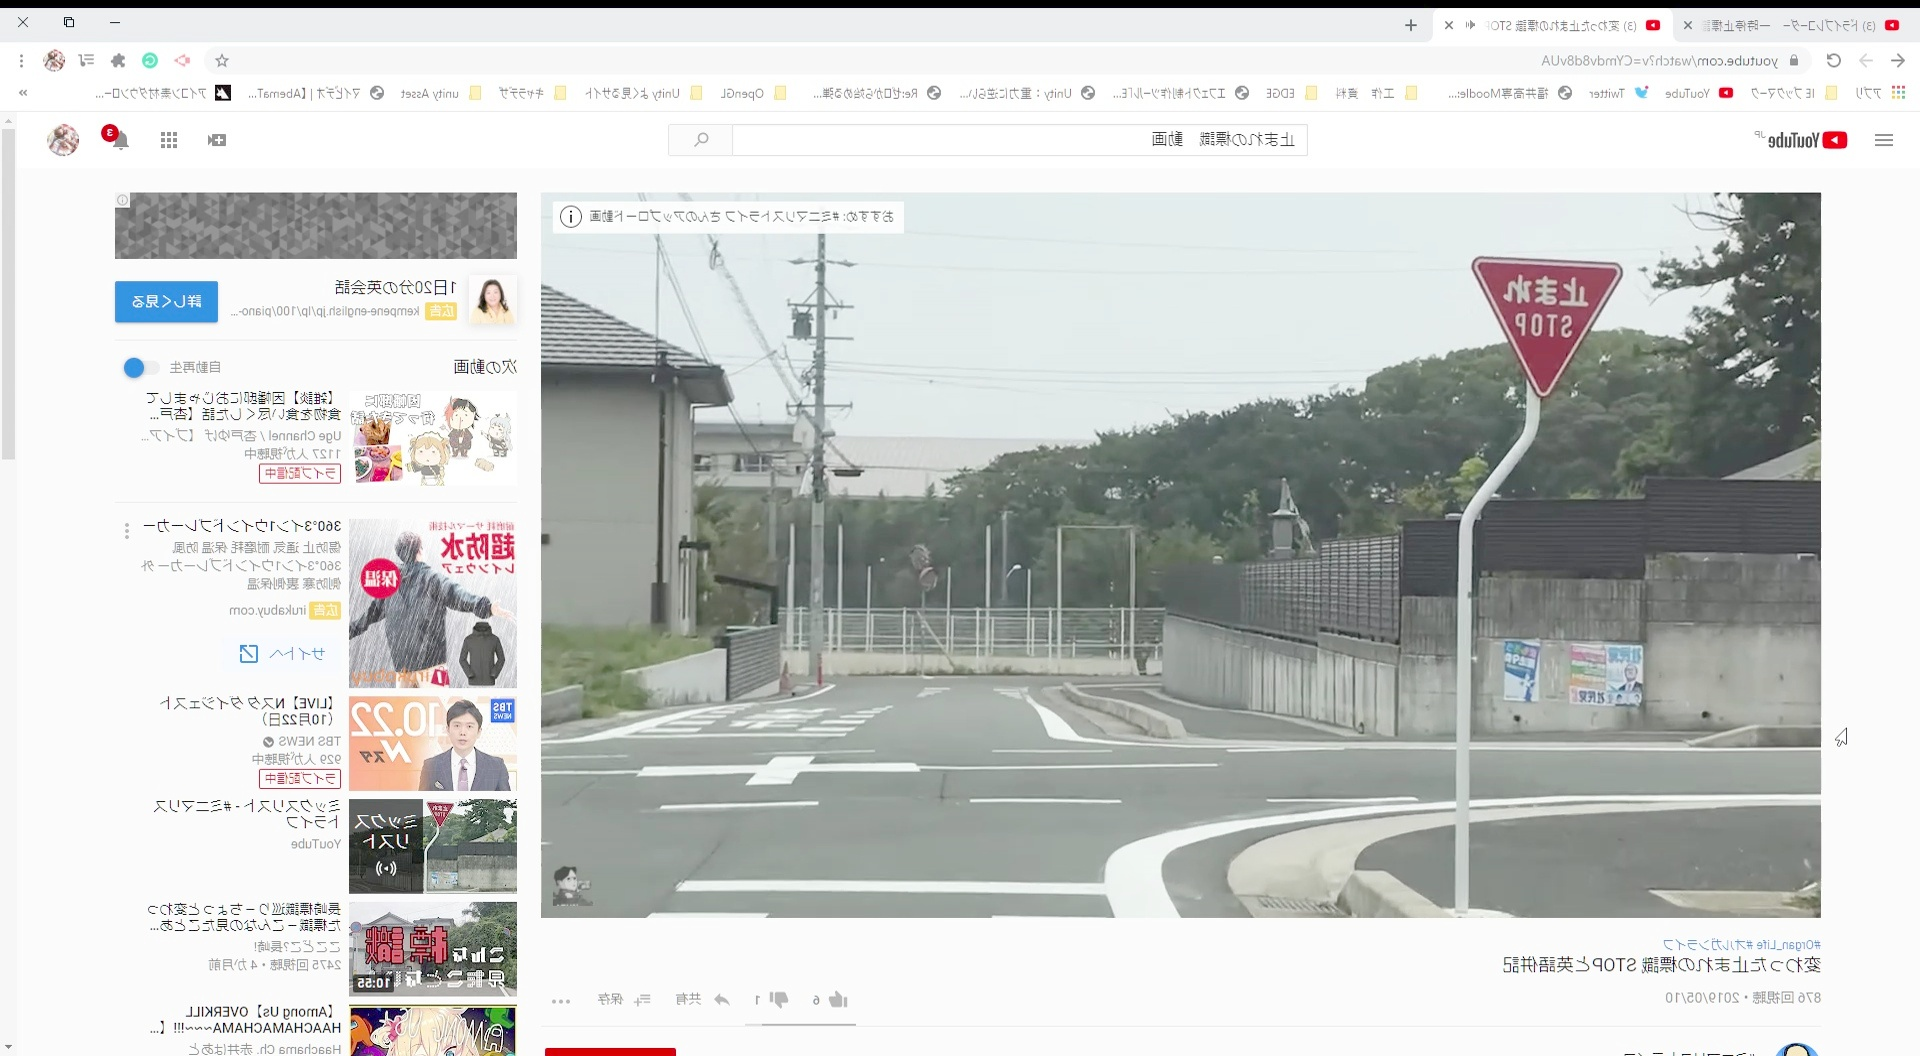Regulatory_sign_triangle: (1466, 244, 1637, 412)
